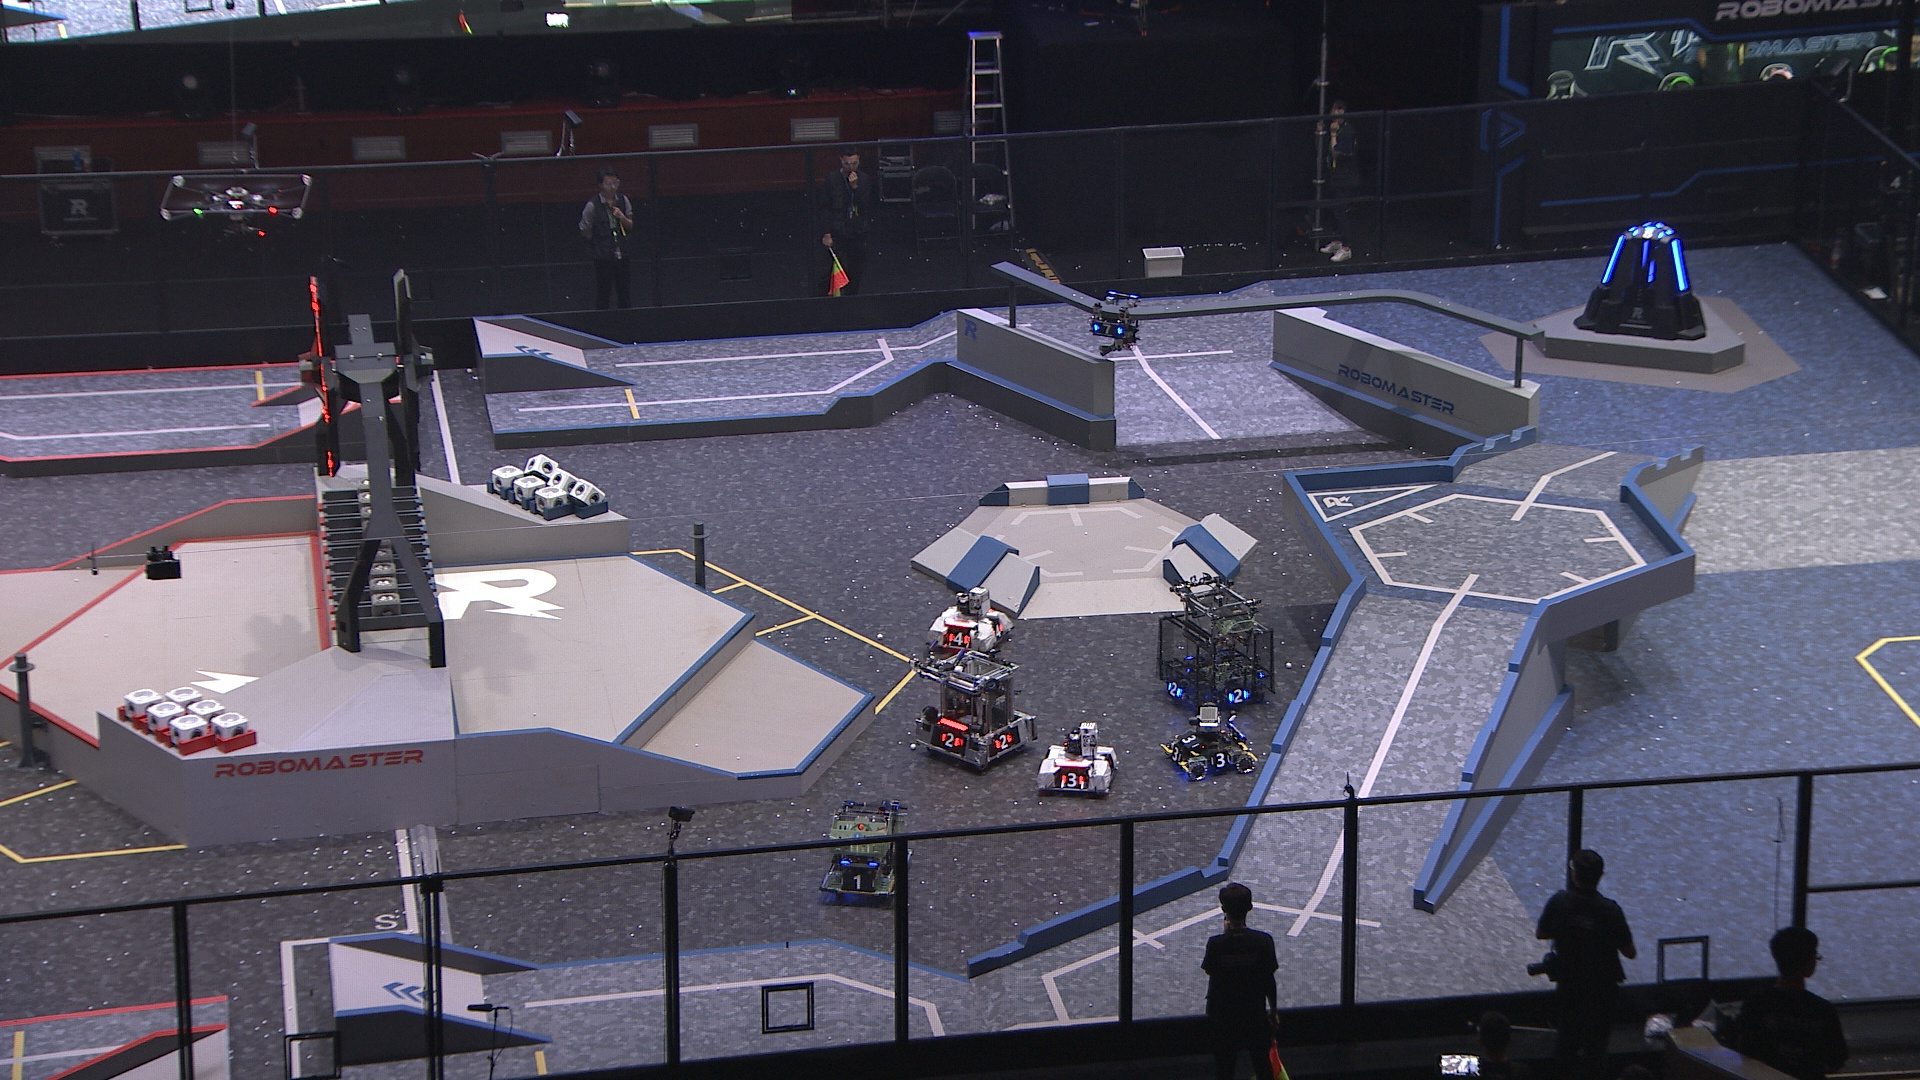armor: (1604, 233, 1625, 285), (1669, 237, 1689, 291), (839, 872, 877, 891), (1059, 769, 1087, 789), (1091, 322, 1125, 338), (1633, 224, 1667, 239), (940, 731, 963, 752), (945, 632, 973, 647), (992, 733, 1015, 752), (1226, 687, 1249, 705), (1178, 731, 1200, 749), (1209, 752, 1233, 769), (1163, 680, 1183, 698), (1168, 745, 1185, 764), (992, 622, 1006, 640), (1647, 262, 1659, 282), (1640, 240, 1648, 266)
base: (1572, 222, 1706, 342)
car: (1153, 574, 1275, 713), (911, 647, 1036, 773), (816, 799, 915, 902), (1158, 703, 1258, 782), (922, 585, 1015, 659), (1035, 721, 1117, 799)
watcher: (1088, 290, 1143, 356)
